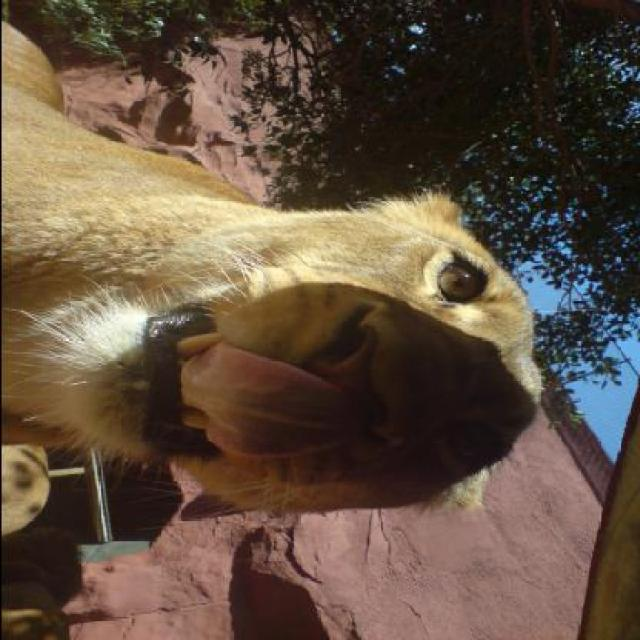Lion: (1, 18, 537, 554)
